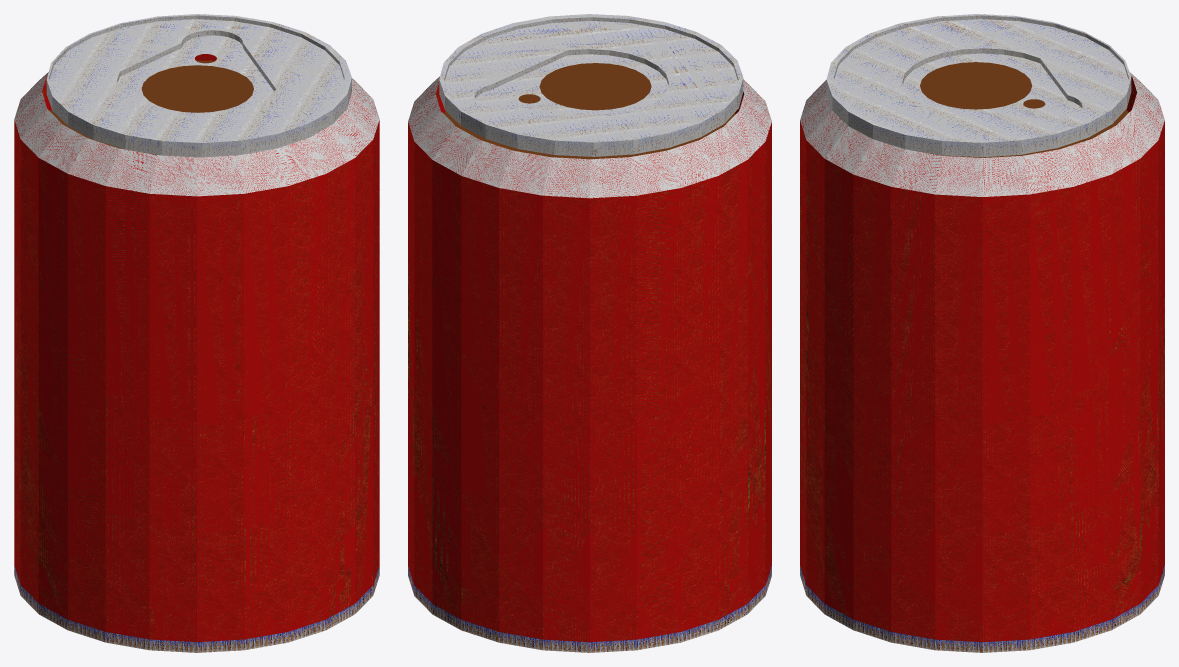
3 renders of one model, left to right at view 1: azimuth 30°, elevation 25°; view 2: azimuth 150°, elevation 25°; view 3: azimuth 270°, elevation 25°, orthographic.
Visible parts, largest first — view 1: mesh1_mesh1-geometry, mesh2_mesh2-geometry; view 2: mesh1_mesh1-geometry, mesh2_mesh2-geometry; view 3: mesh1_mesh1-geometry, mesh2_mesh2-geometry.
Part boxes in pixels (box(x1,y1,x2,y2)): mesh1_mesh1-geometry: box(14, 54, 379, 652); mesh2_mesh2-geometry: box(46, 14, 351, 157); mesh1_mesh1-geometry: box(408, 63, 771, 652); mesh2_mesh2-geometry: box(439, 14, 743, 156); mesh1_mesh1-geometry: box(800, 62, 1164, 652); mesh2_mesh2-geometry: box(826, 14, 1131, 157).
Size of the model in its own units: 0.4841 by 0.7289 by 0.4841.
